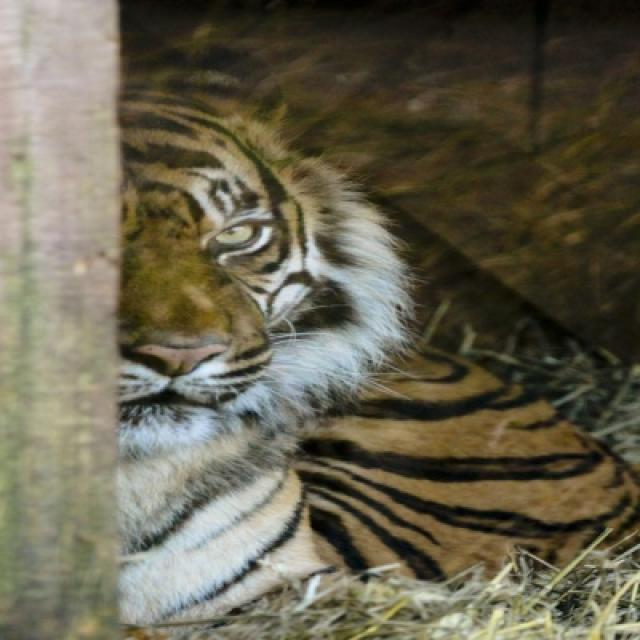Tiger: (117, 64, 638, 626)
